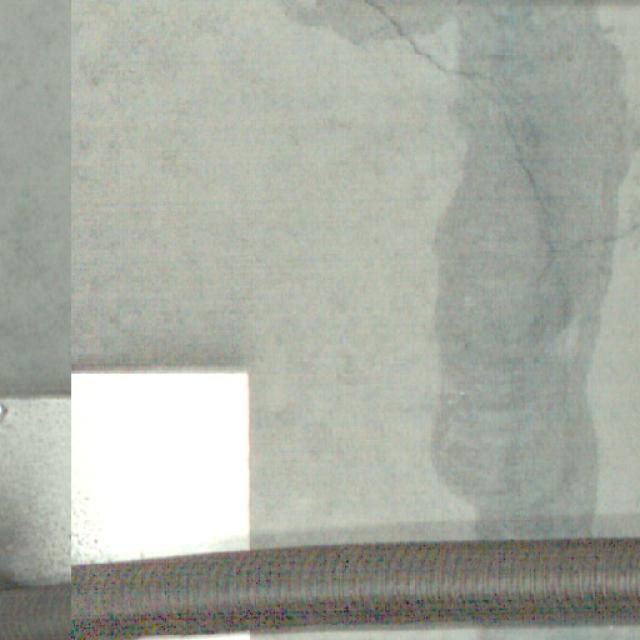Network: (327, 0, 636, 343)
